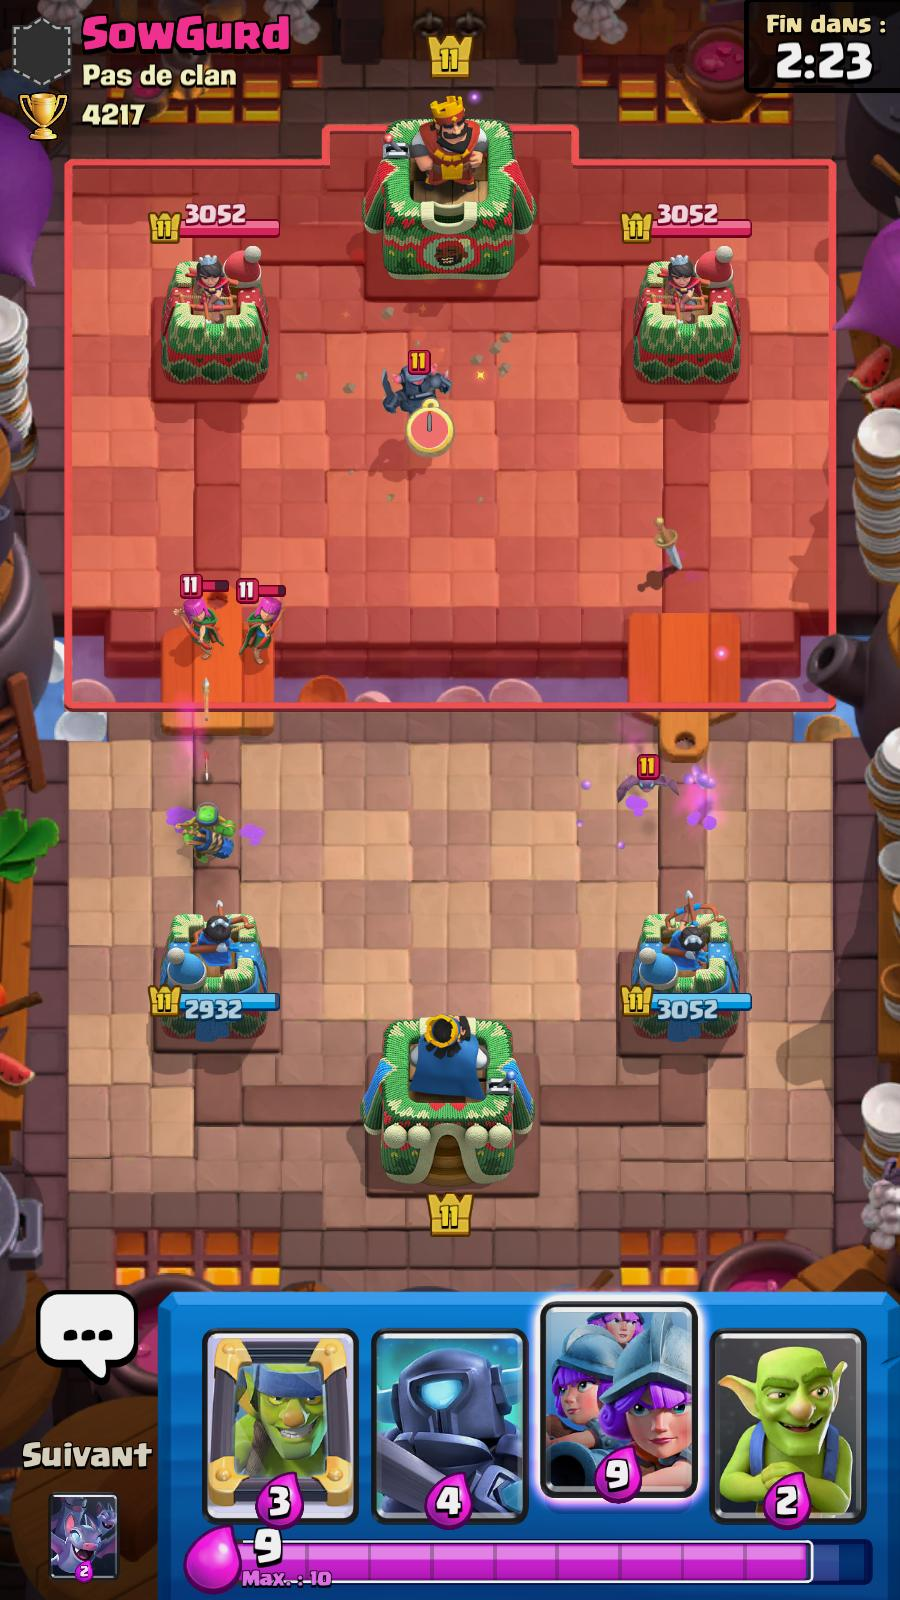archere: (234, 578, 287, 654), (177, 575, 226, 645)
bat: (614, 755, 676, 799)
gobelin_lances: (177, 805, 236, 860)
mini_PEKKA: (384, 353, 451, 419)
